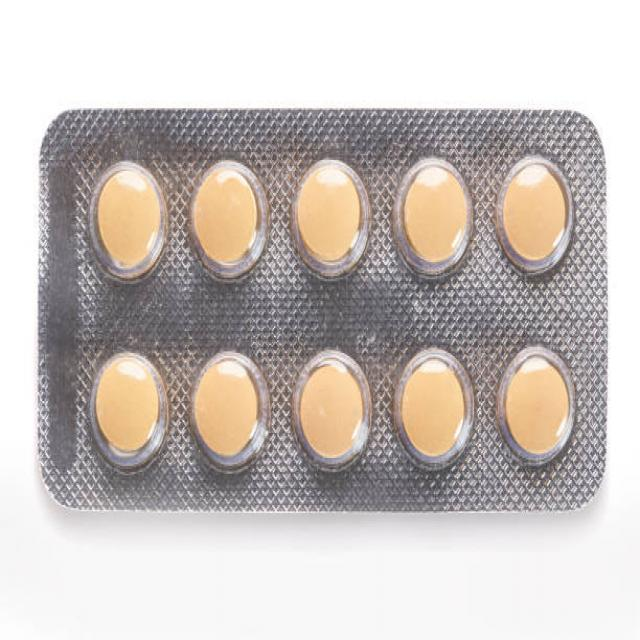Pill: (489, 141, 584, 291), (189, 328, 273, 495), (80, 332, 173, 482), (289, 335, 377, 488), (494, 335, 580, 488), (82, 143, 168, 292), (388, 339, 475, 485), (183, 147, 268, 292), (398, 142, 478, 292), (291, 147, 371, 288)
